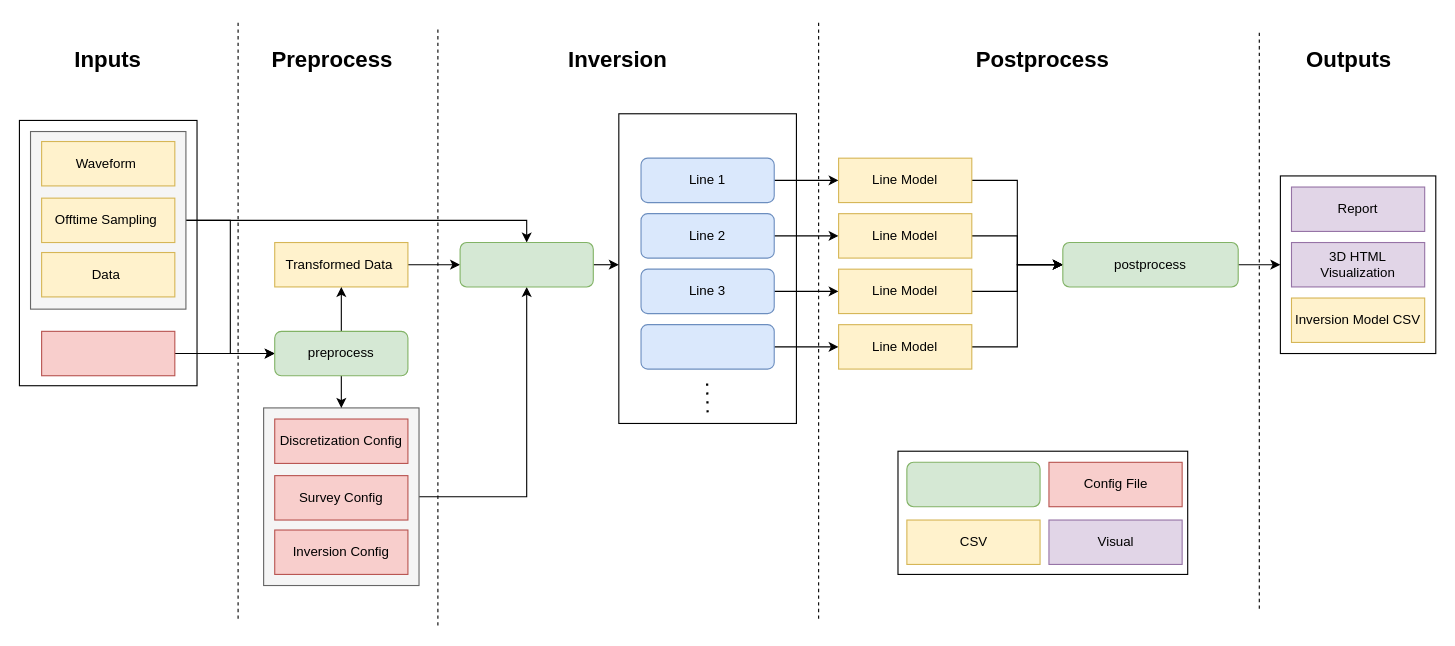
The diagram is 1455 pixels wide and 646 high, and some of its shapes have lost their labels. Here are the shapes that lost their labels. From the top down, the centre of each, then its label:
At (526,264): "run".
At (108,353): "System Config".
At (707,346): "Line 4".
At (973,484): "Astrape".
